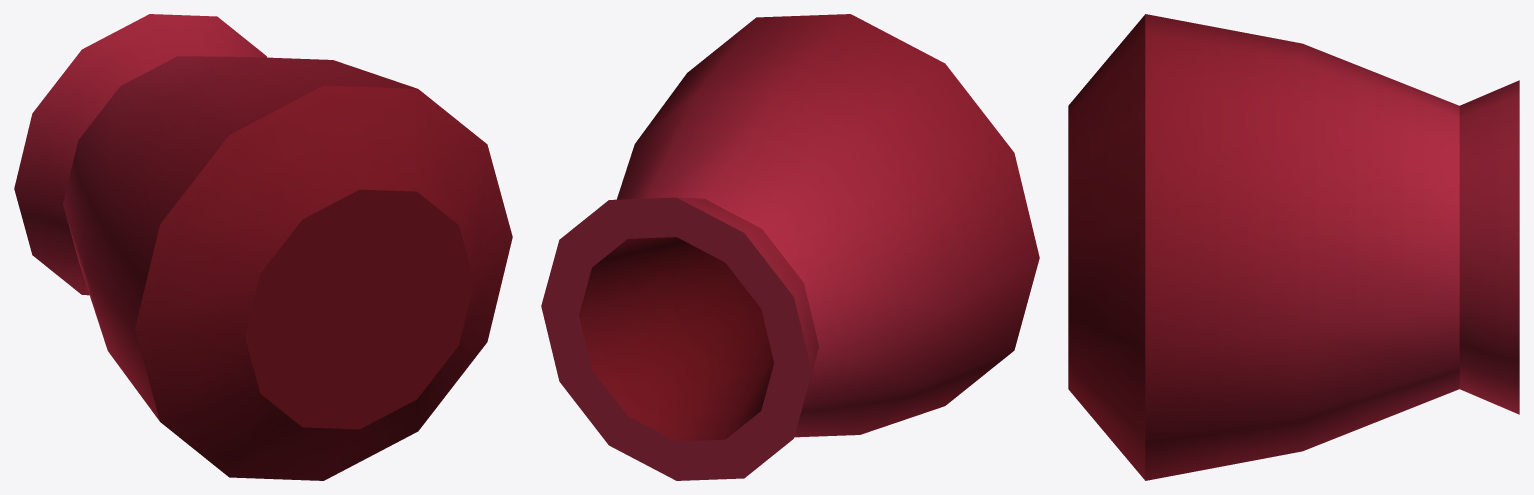
Rendered from Urn 03.FBX.
3 views of the same model, side by side, from view 1: azimuth 30°, elevation 25°; view 2: azimuth 150°, elevation 25°; view 3: azimuth 270°, elevation 25° (orthographic). The views are drawn at different scales.
Parts seen in each view (by area): view 1: Urn 03; view 2: Urn 03; view 3: Urn 03.
Boxes of the visible parts, x1=… form: Urn 03: x1=14, y1=14, x2=512, y2=480; Urn 03: x1=541, y1=14, x2=1039, y2=480; Urn 03: x1=1068, y1=14, x2=1519, y2=480.
Size of the model in its own units: 84.42 by 81.29 by 84.42.
Materials: 1 (1 with a texture image).
